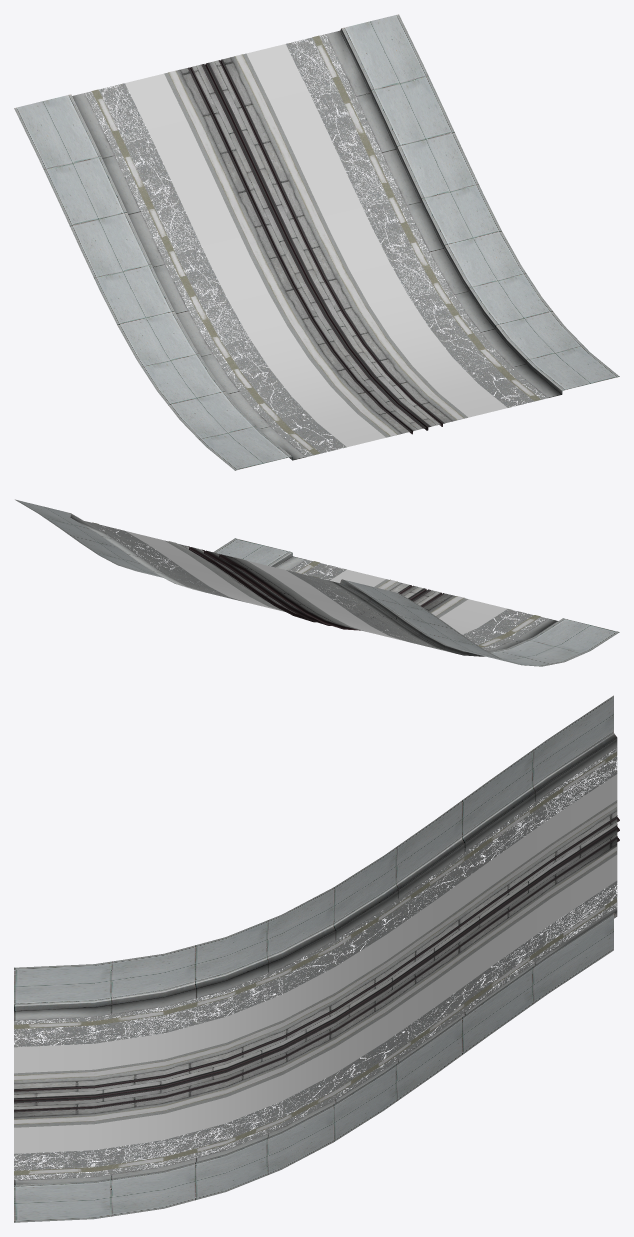
File: RoadRail_SlopeOut.obj
The picture shows the model from 3 angles, top to bottom: view 1: azimuth 30°, elevation 25°; view 2: azimuth 150°, elevation 25°; view 3: azimuth 270°, elevation 25°; orthographic projection. The views are drawn at different scales.
Visible parts, largest first — view 1: Road_Rail.008; view 2: Road_Rail.008; view 3: Road_Rail.008.
Part boxes in pixels (x1,y1,x2,y2): Road_Rail.008: (14,14,619,470); Road_Rail.008: (15,499,619,666); Road_Rail.008: (14,695,619,1222).
Bounding box in the file's own units: 20 × 10.3 × 20.08.
